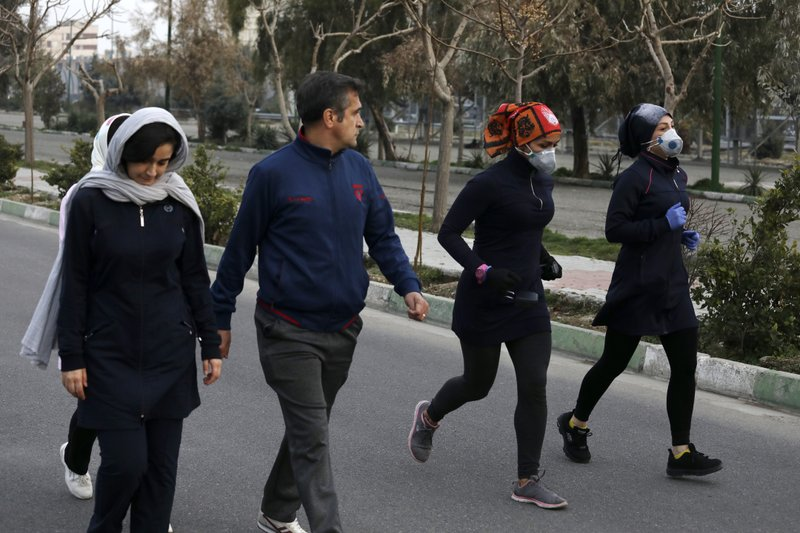Person: (238, 85, 411, 521), (48, 112, 211, 494), (584, 106, 729, 487), (438, 100, 557, 506)
